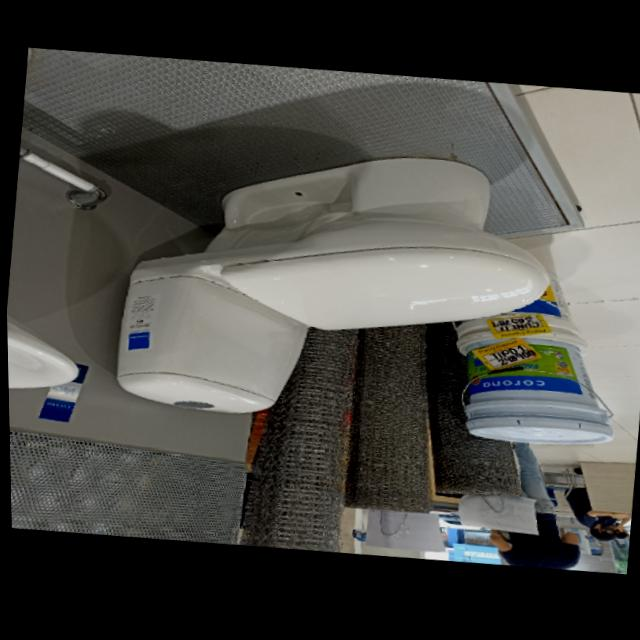toilet: (106, 127, 564, 451)
